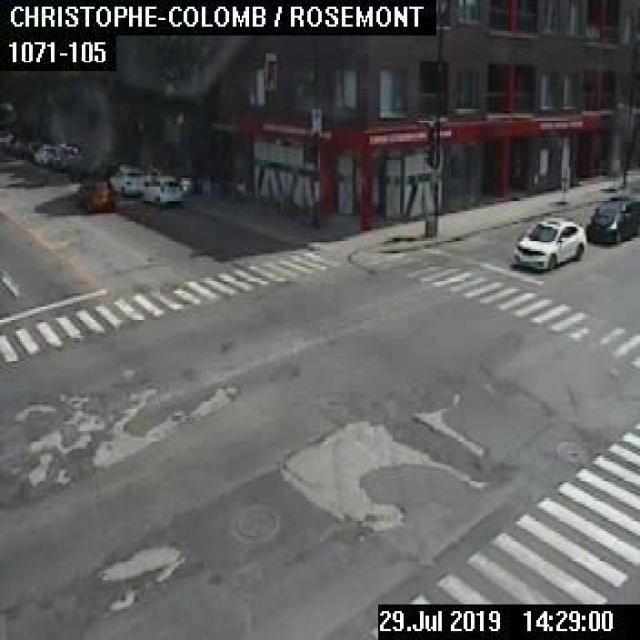vehicle: (513, 217, 584, 268), (584, 197, 638, 244), (76, 176, 113, 210), (142, 173, 180, 206), (108, 163, 144, 195), (32, 143, 58, 163)
